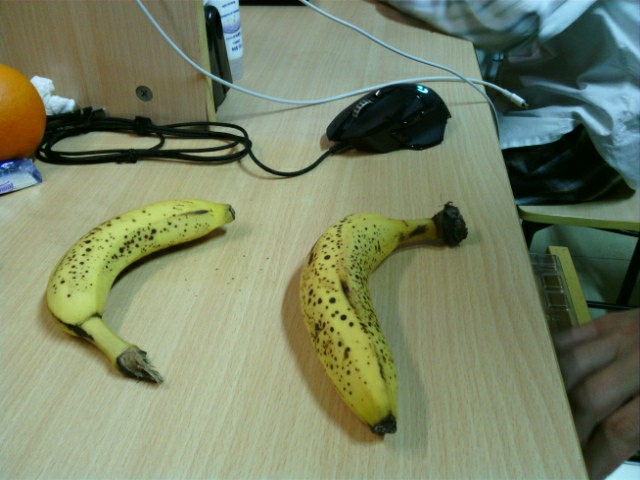normal_banana: (301, 201, 469, 438), (46, 198, 235, 387)
